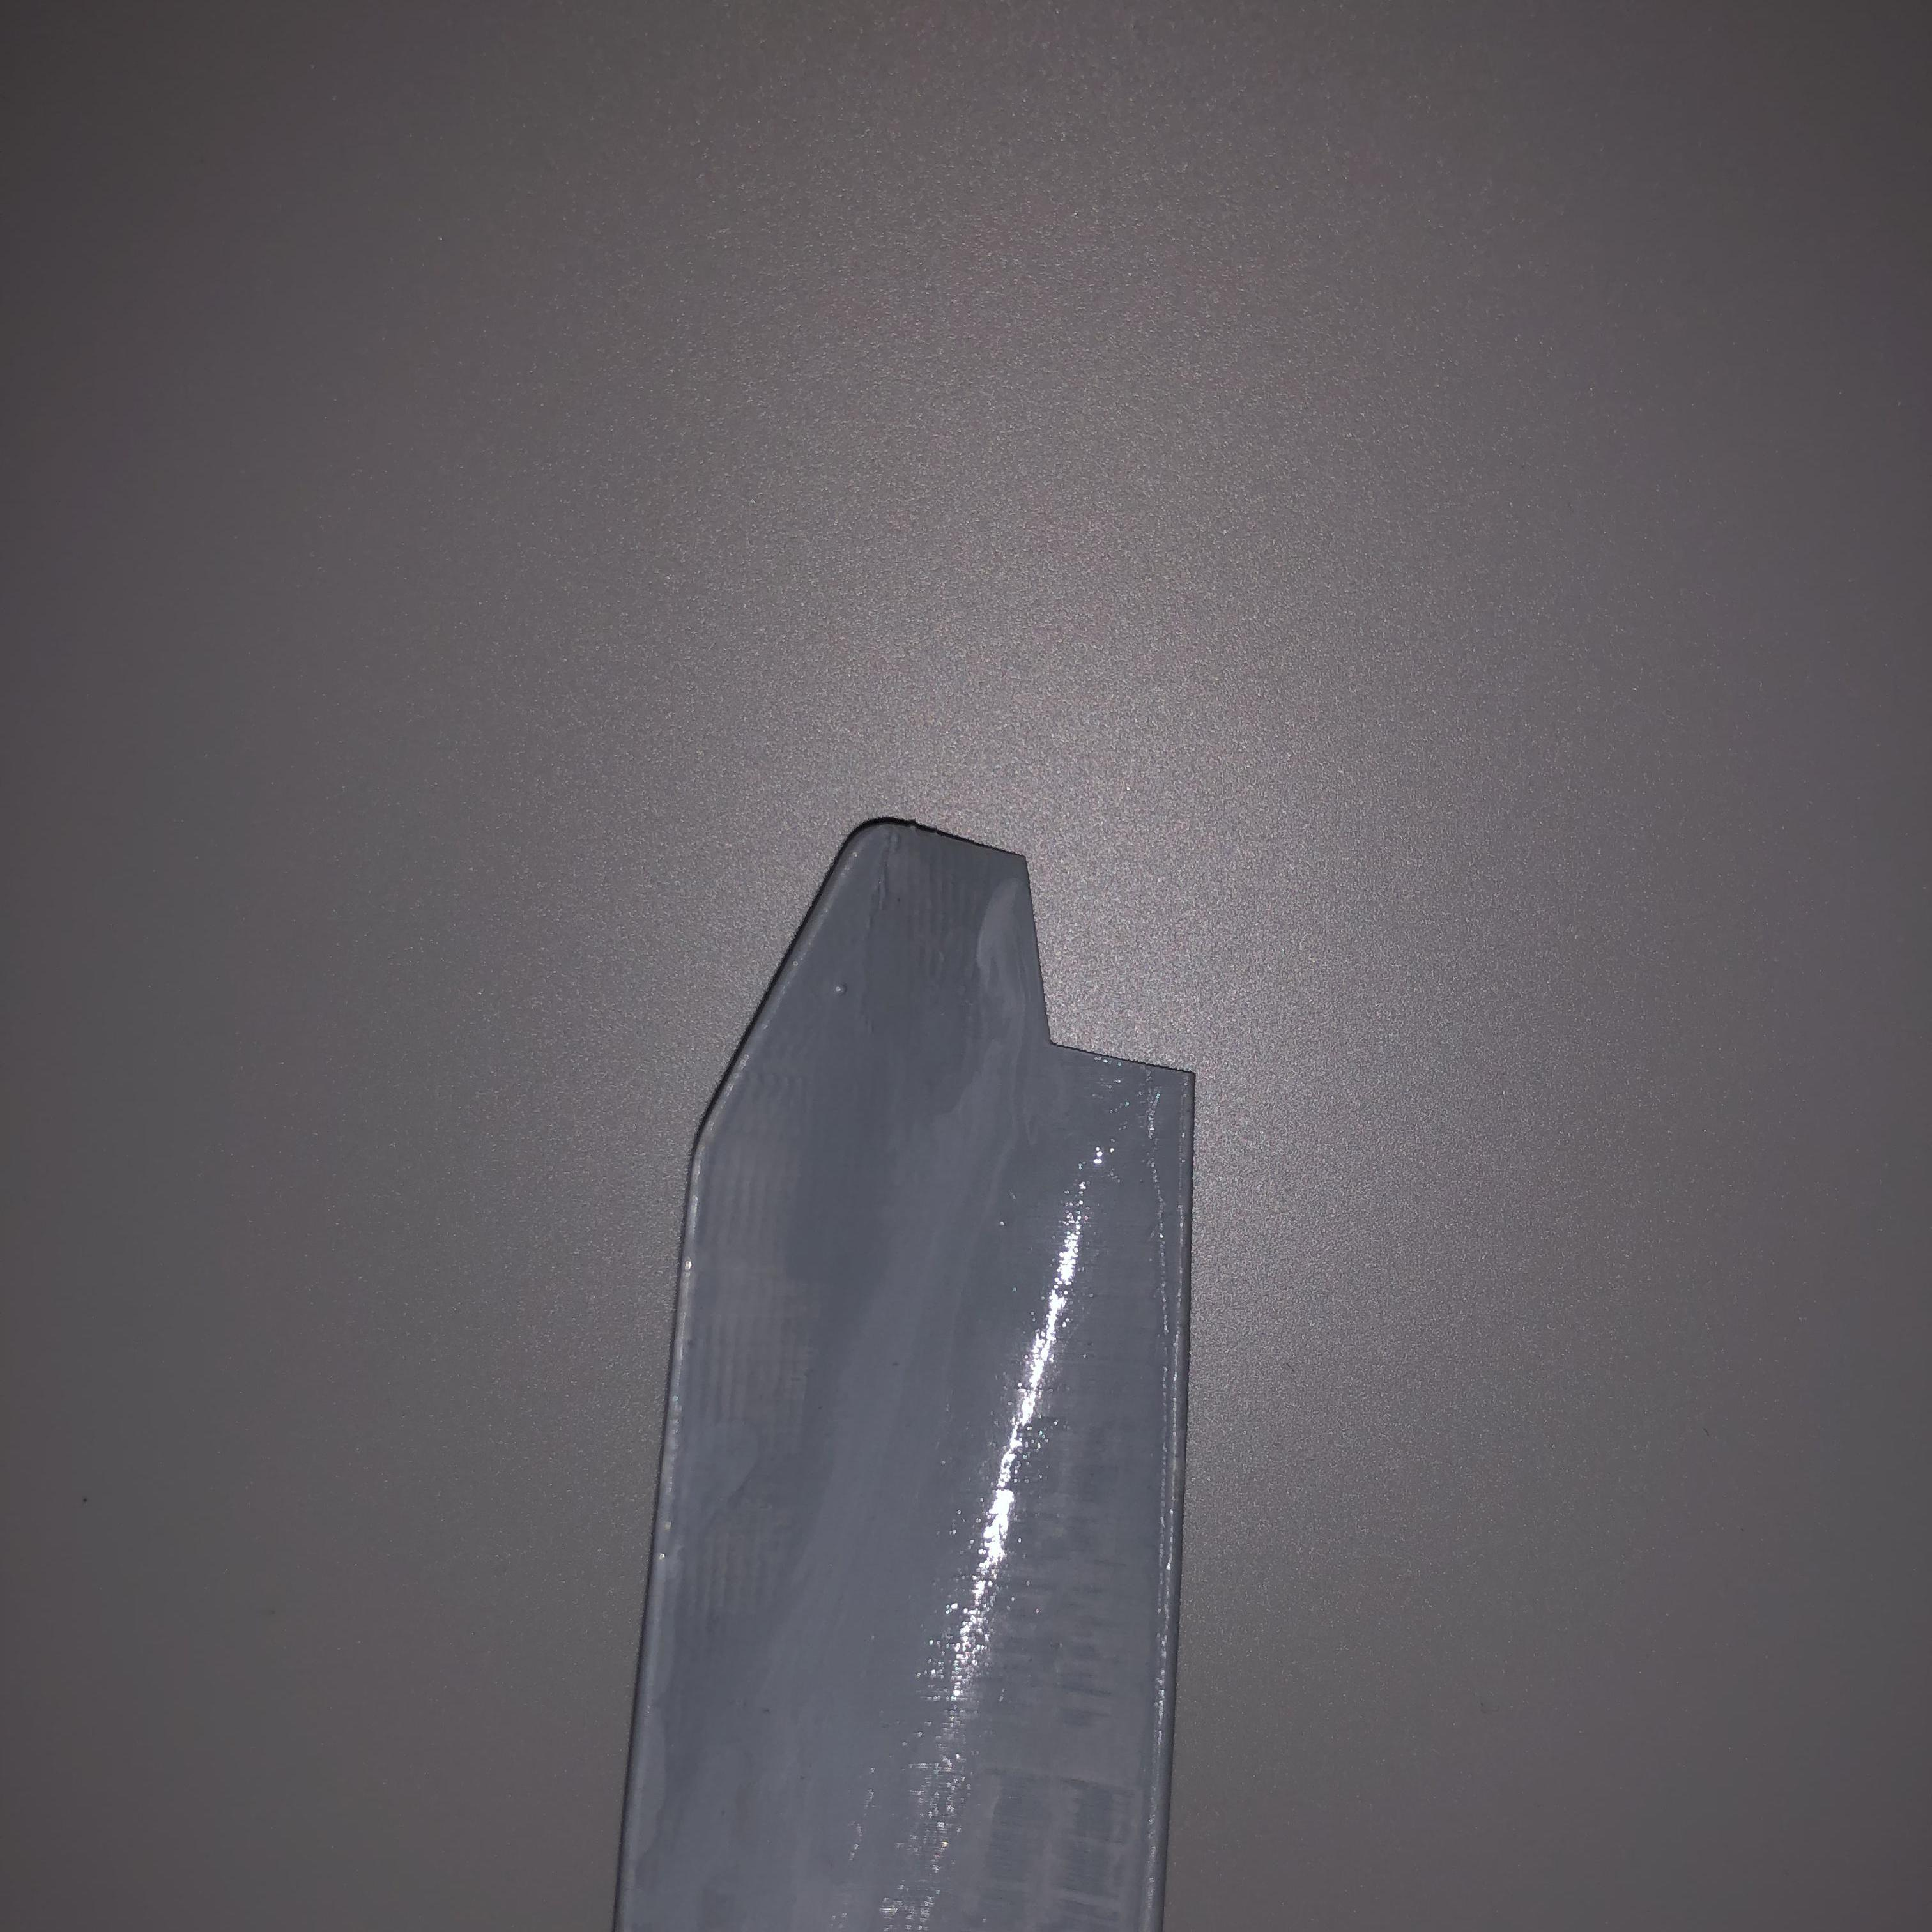fracture: (1007, 847, 1189, 1092)
